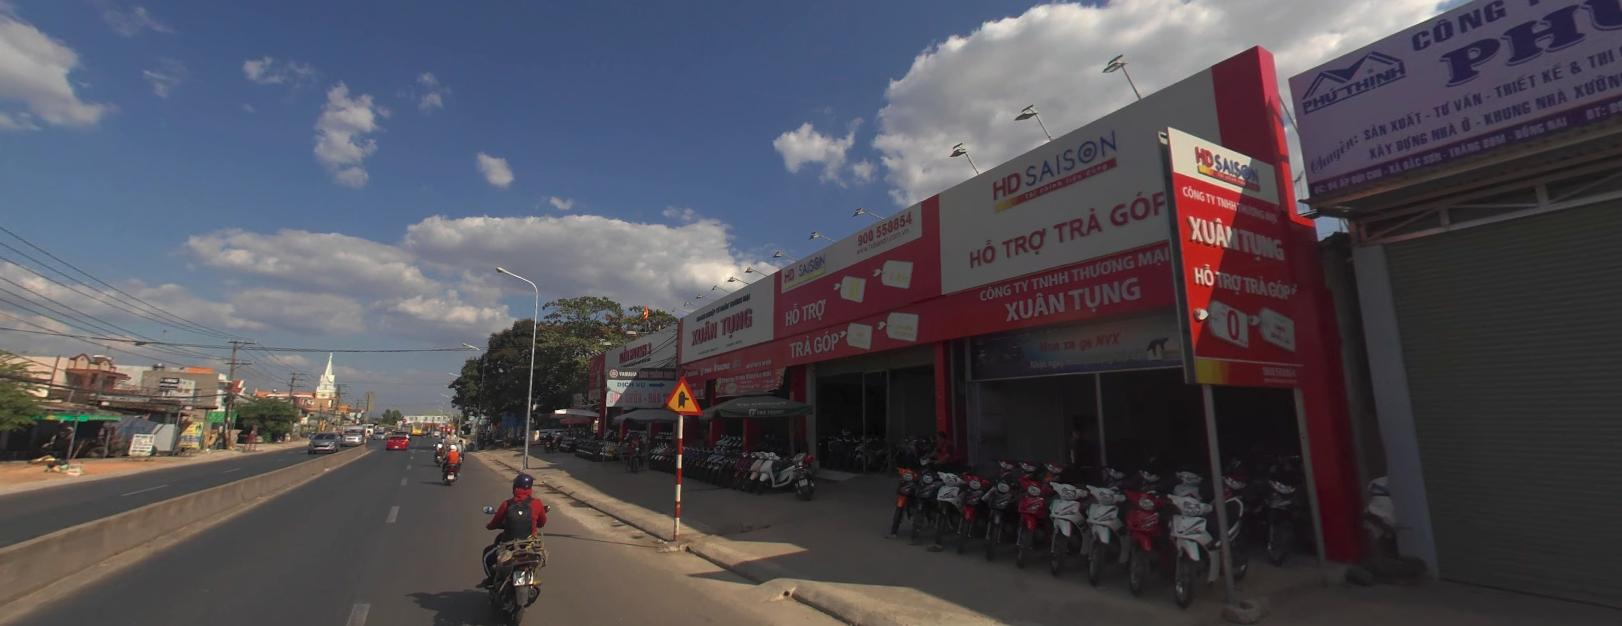Nguy hiem: (661, 372, 703, 415), (663, 374, 703, 413)
